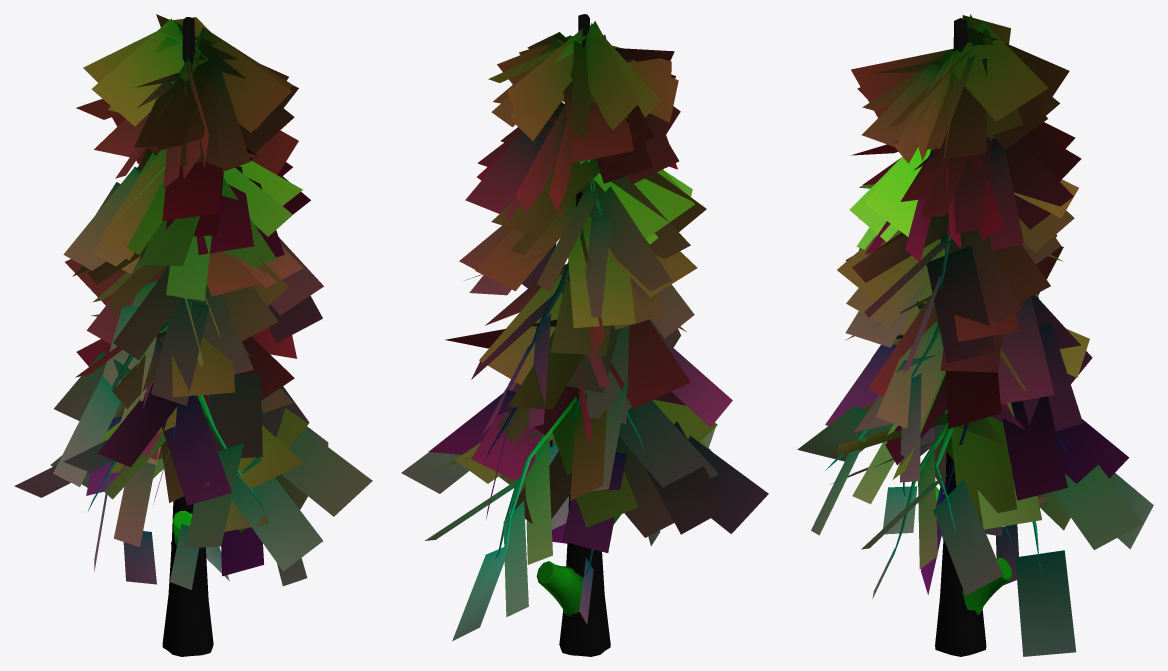
File: M_Pine_3_2.fbx
3 views of the same model, side by side, from view 1: azimuth 30°, elevation 25°; view 2: azimuth 150°, elevation 25°; view 3: azimuth 270°, elevation 25° (orthographic).
Visible parts, largest first — view 1: Tree_2; view 2: Tree_2; view 3: Tree_2.
Boxes of the visible parts, box(x1,y1,x2,y2) form: Tree_2: box(14, 14, 372, 656); Tree_2: box(401, 14, 768, 656); Tree_2: box(797, 14, 1153, 656).
Bounding box in the file's own units: 1638 × 3077 × 1586.
